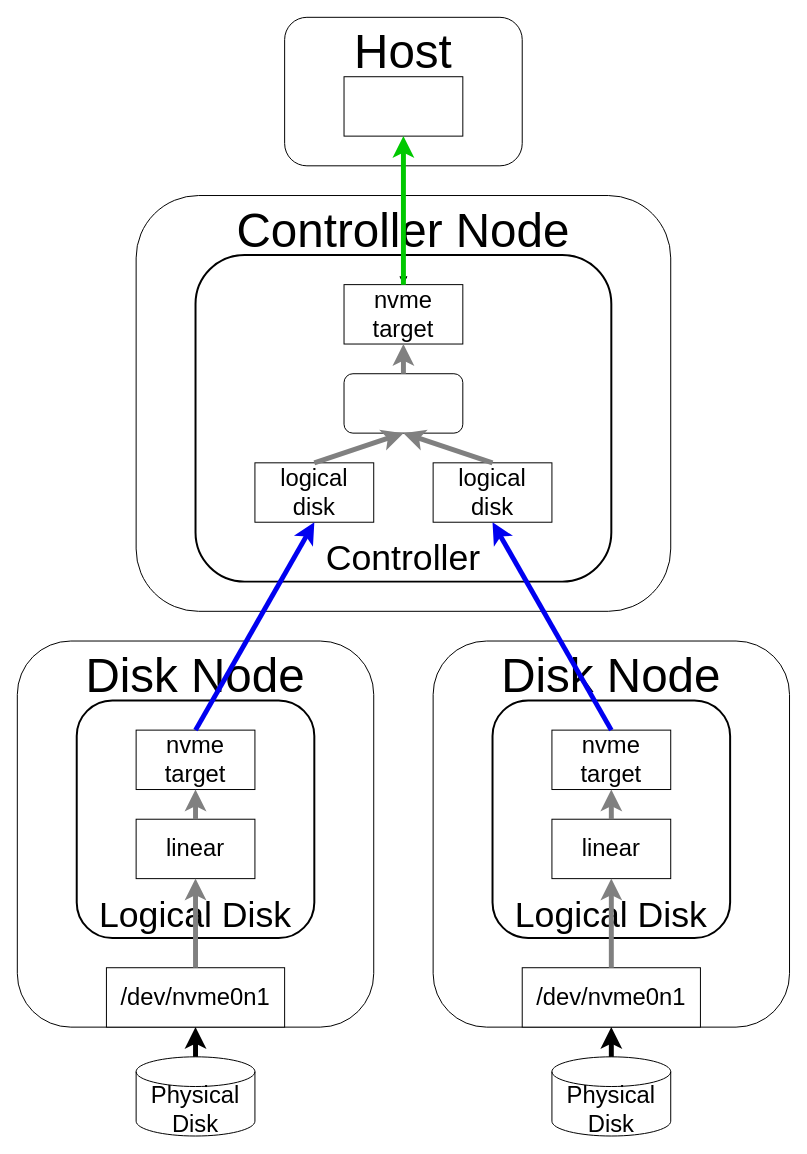
This 807x1154 diagram has some shape labels left out. Here are the shapes that lost their labels. From the top down, the centre of each, then its label:
At [403,106]: "nvmeof".
At [403,403]: "device mapper".
